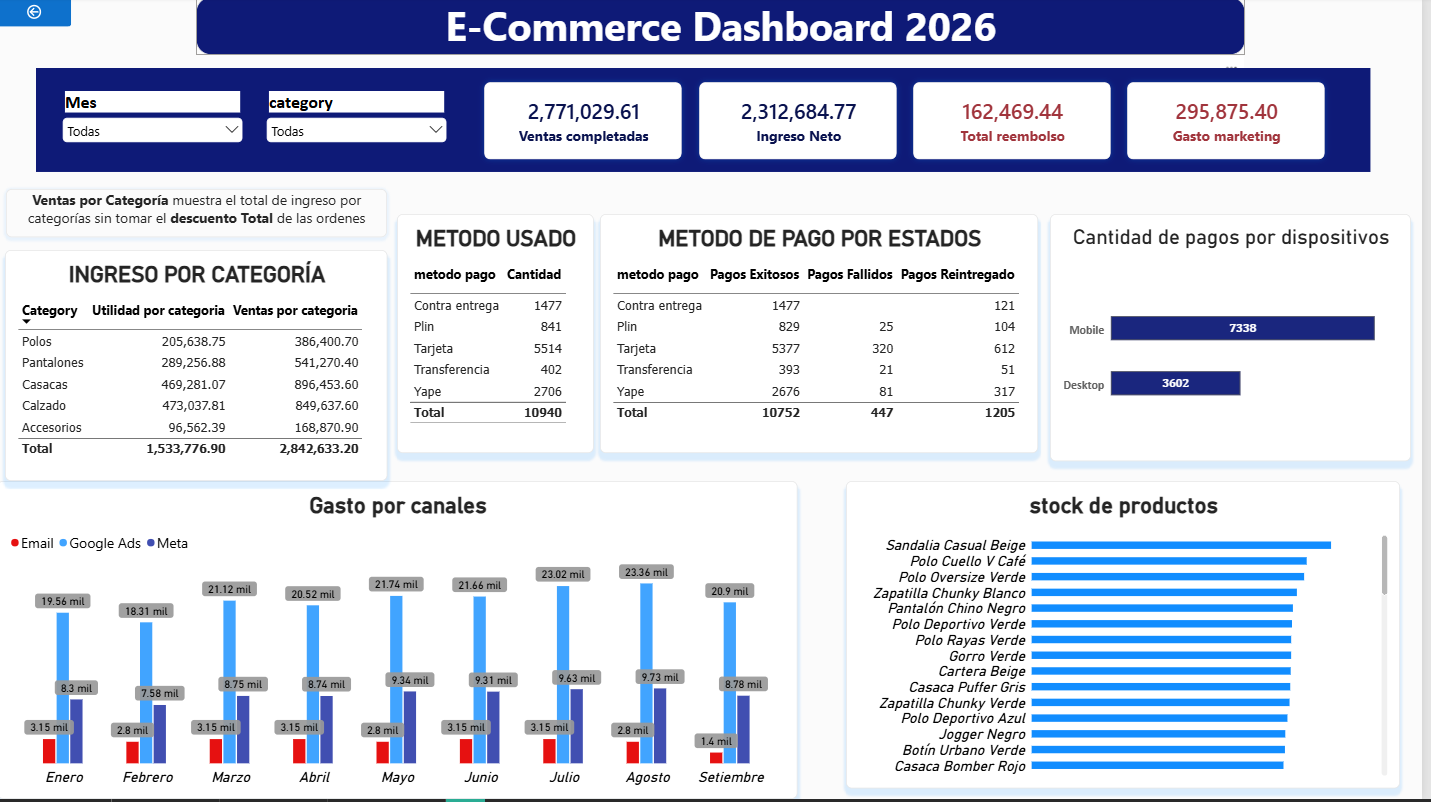

The dashboard page shown, as its layout file describes it:
{"tool":"powerbi","page":{"name":"concentracion","canvas":[1920,1080],"ordinal":2},"visuals":[{"type":"textbox","box":[267.8,0,1413.2,78.3],"z":0},{"type":"textbox","box":[52.1,96.2,1796.9,140.4],"z":1000},{"type":"slicer","fields":{"Values":["Calendario.Date.Variación.Jerarquía de fechas.Mes"]},"box":[83.6,126.2,252.4,82],"z":2000},{"type":"cardVisual","fields":{"Data":["medida calculada.Total reembolso"]},"box":[1222.7,104.1,288.7,126.2],"z":3000},{"type":"cardVisual","fields":{"Data":["medida calculada.Ventas completadas"]},"box":[645.3,104.1,288,126],"z":4000},{"type":"cardVisual","fields":{"Data":["medida calculada.Ingreso_NETO"]},"box":[934,104.1,288.7,126.2],"z":5000},{"type":"cardVisual","fields":{"Data":["medida calculada.total_gasto_marketing"]},"box":[1511.4,104.1,288.7,126.2],"z":6000},{"type":"actionButton","box":[0,0,100,40],"z":7000},{"type":"clusteredColumnChart","title":"Gasto por canales","fields":{"Category":["Calendario.Date.Variación.Jerarquía de fechas.Mes"],"Series":["gasto_marketing.channel"],"Y":["medida calculada.total_gasto_marketing"]},"box":[0,651.9,1078.2,427.9],"z":8000},{"type":"slicer","fields":{"Values":["productos.category"]},"box":[358.1,126.2,252.4,82],"z":9000},{"type":"tableEx","title":"INGRESO POR CATEGORÍA","fields":{"Values":["productos.category","medida calculada.Ventas por categoria","medida calculada.Ventas por categoria1"]},"box":[10.8,340.7,515,311.2],"z":10000},{"type":"textbox","box":[12.1,258.6,513.5,65.3],"z":11000},{"type":"tableEx","title":"METODO USADO","fields":{"Values":["ordenes.payment_method","medida calculada.Cantidad de pagos"]},"box":[538.7,292.2,264.5,322.1],"z":12000},{"type":"tableEx","title":"METODO DE PAGO POR ESTADOS","fields":{"Values":["ordenes.payment_method","medida calculada.Pagos Exitosos","medida calculada.Pagos Fallidos","medida calculada.Pagos Reintregado"]},"box":[812,292.2,589.7,322.1],"z":13000},{"type":"clusteredBarChart","fields":{"Category":["ordenes.dispositivos"],"Y":["medida calculada.Cantidad de pagos"]},"box":[1418,292.2,486.1,332.6],"z":14000},{"type":"barChart","title":"stock de productos","fields":{"Category":["productos.product_name"],"Y":["Sum(stock_inventario.stock_units)"]},"box":[1143.9,651.3,746.3,413.9],"z":15000}]}

Visuals, with their boxes in screenshot pixels (x1, y1, x2, y2), scaled from the page's 1920x1080 canvas onto the 1431x802 screenshot:
textbox: 200, 0, 1253, 58
textbox: 39, 71, 1378, 176
slicer - Calendario.Date.Variación.Jerarquía de fechas.Mes: 62, 94, 250, 155
cardVisual - medida calculada.Total reembolso: 911, 77, 1126, 171
cardVisual - medida calculada.Ventas completadas: 481, 77, 696, 171
cardVisual - medida calculada.Ingreso_NETO: 696, 77, 911, 171
cardVisual - medida calculada.total_gasto_marketing: 1126, 77, 1342, 171
actionButton: 0, 0, 75, 30
"Gasto por canales" clusteredColumnChart: 0, 484, 804, 801
slicer - productos.category: 267, 94, 455, 155
"INGRESO POR CATEGORÍA" tableEx: 8, 253, 392, 484
textbox: 9, 192, 392, 241
"METODO USADO" tableEx: 401, 217, 599, 456
"METODO DE PAGO POR ESTADOS" tableEx: 605, 217, 1045, 456
clusteredBarChart - ordenes.dispositivos x medida calculada.Cantidad de pagos: 1057, 217, 1419, 464
"stock de productos" barChart: 853, 484, 1409, 791
